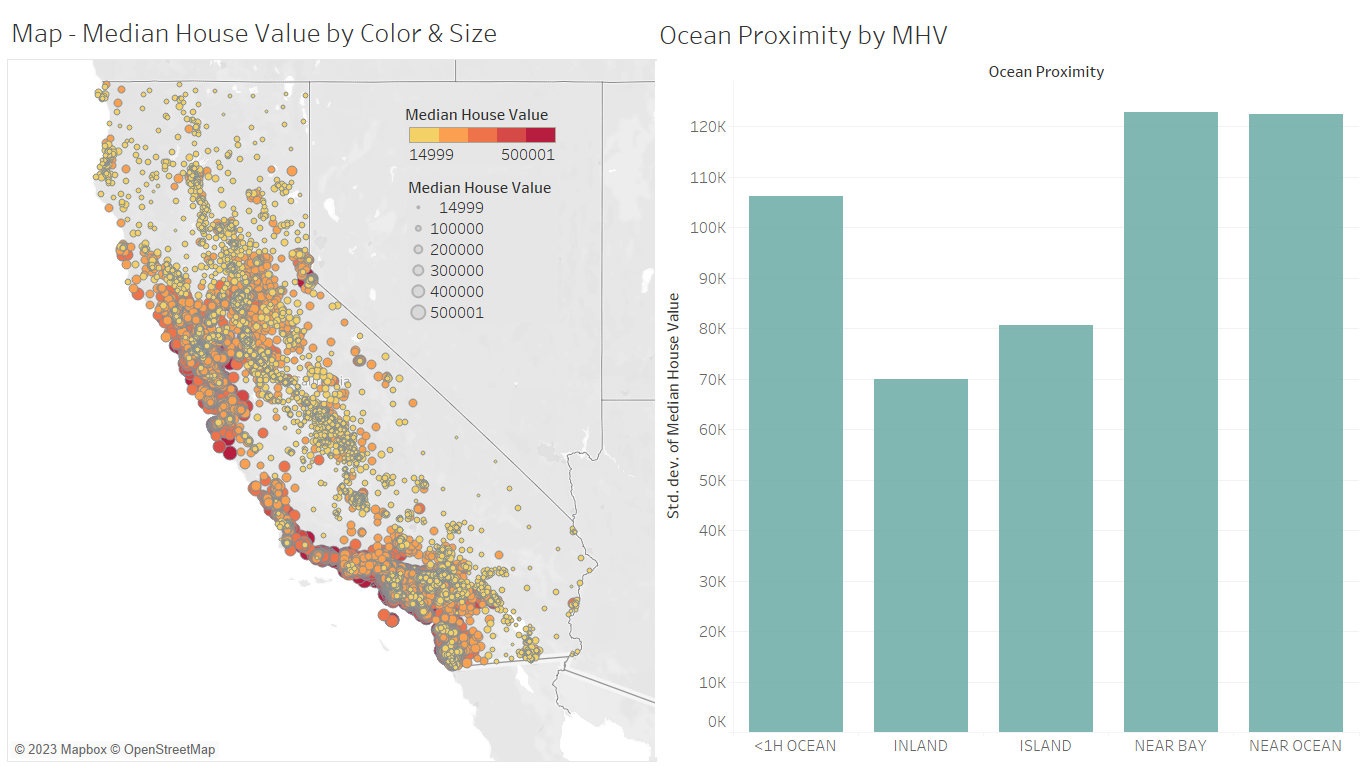

The dashboard page shown, as its layout file describes it:
{"tool":"tableau","page":{"name":"Dashboard 2","canvas":[1366,768],"ordinal":1},"visuals":[{"type":"worksheet","title":"Map - Median House Value by Color & Size","mark":"Circle","rows":["latitude"],"cols":["longitude"],"box":[7,9,650,753]},{"type":"worksheet","title":"Ocean Proximity by MHV","mark":"Automatic","rows":["median_house_value"],"cols":["ocean_proximity"],"box":[655,11,704,746]},{"type":"legend","title":"Map - Median House Value by Color & Size","param":"[federated.0folnf4071phs91byyoqa017ccb5].[none:median_house_value:qk]","box":[405,100,155,77]},{"type":"legend","title":"Map - Median House Value by Color & Size","param":"[federated.0folnf4071phs91byyoqa017ccb5].[none:median_house_value:qk]","box":[407,175,151,148]}]}

Visuals, with their boxes in screenshot pixels (x1, y1, x2, y2), scaled from the page's 1366x768 canvas onto the 1366x768 screenshot:
"Map - Median House Value by Color & Size" worksheet (Circle marks): (left=7, top=9, right=657, bottom=762)
"Ocean Proximity by MHV" worksheet: (left=655, top=11, right=1359, bottom=757)
"Map - Median House Value by Color & Size" legend: (left=405, top=100, right=560, bottom=177)
"Map - Median House Value by Color & Size" legend: (left=407, top=175, right=558, bottom=323)
